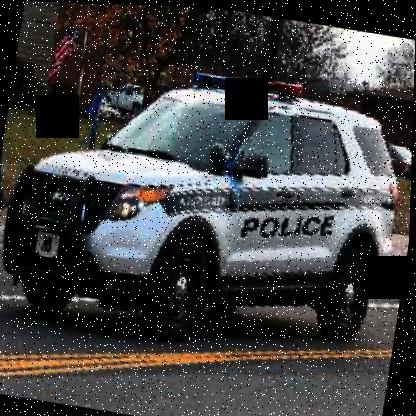emergency: (0, 35, 414, 398)
